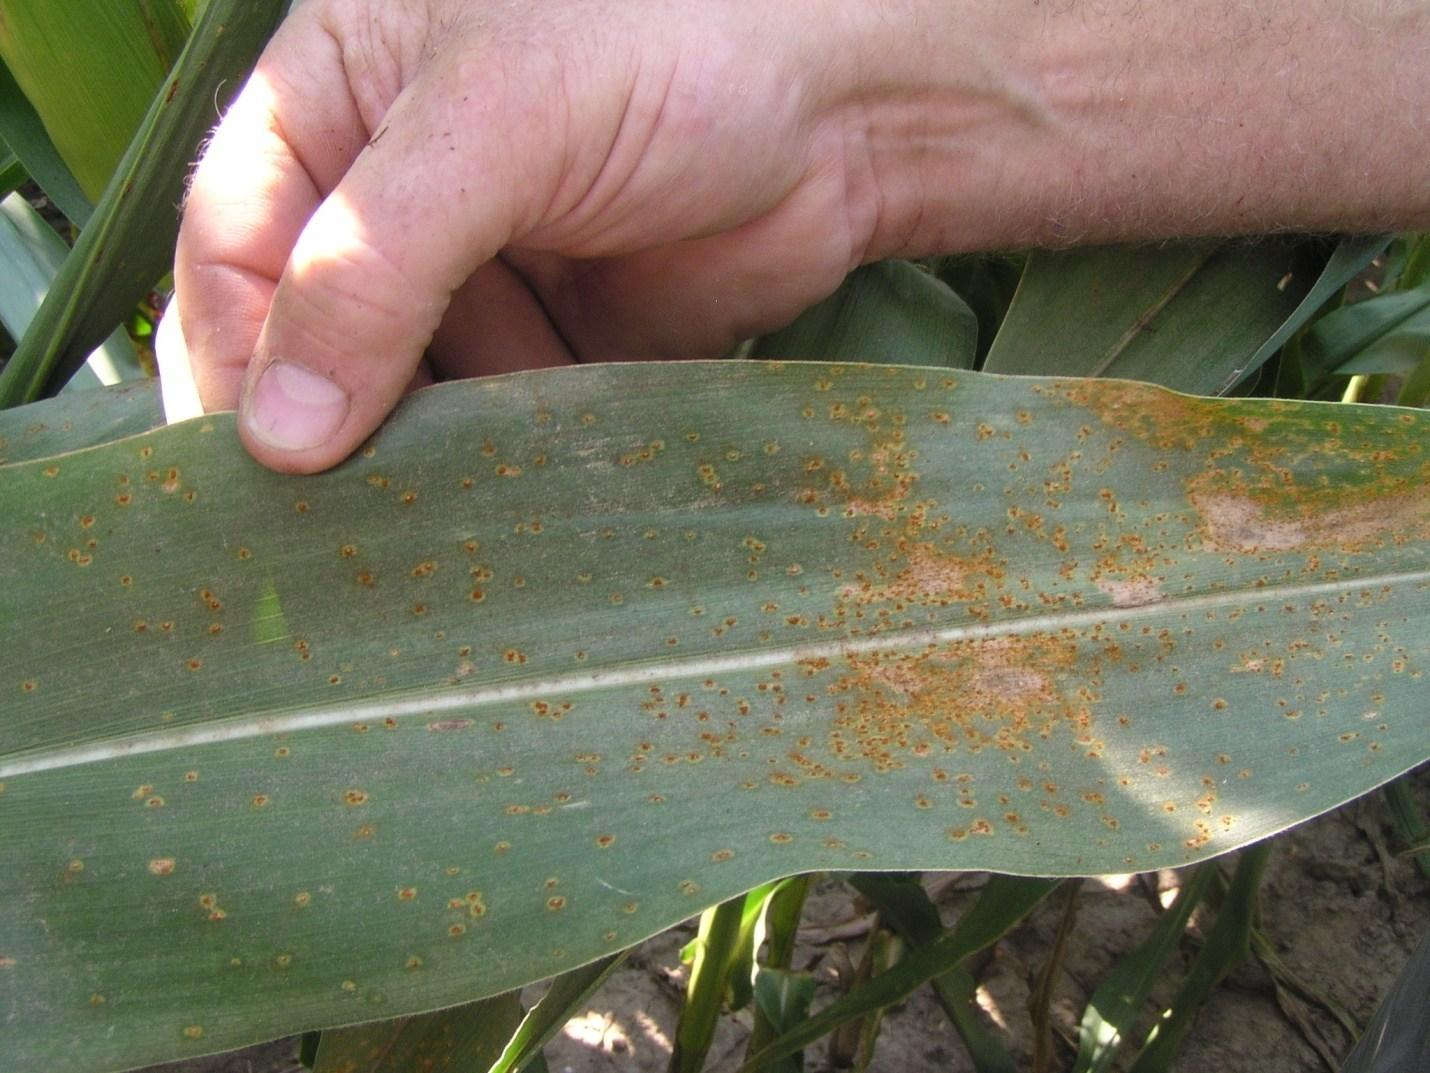Corn rust leaf: (7, 367, 1430, 1004)
